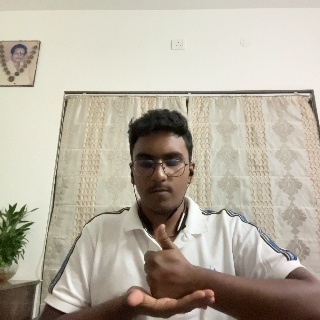Face: (130, 109, 194, 213)
Help: (120, 224, 217, 318)
